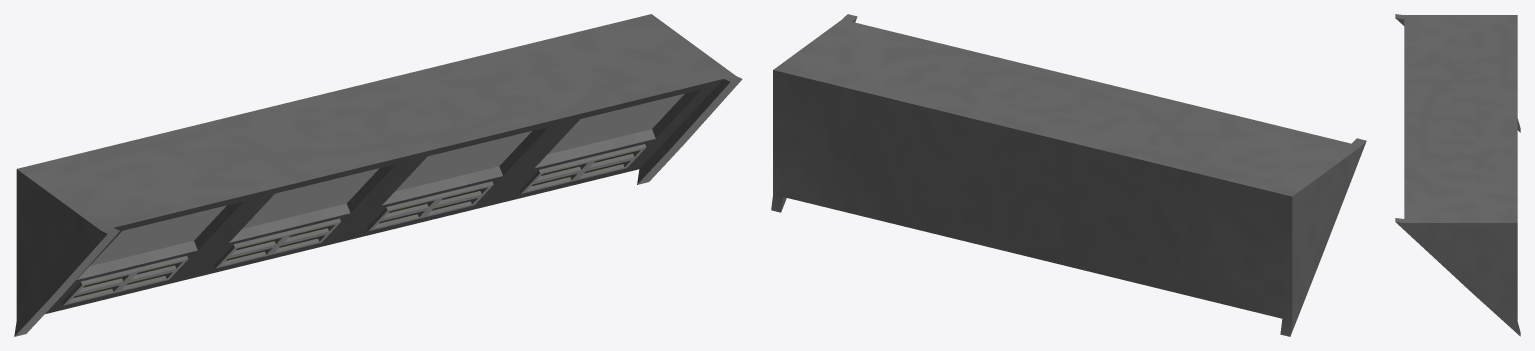
The model's file is Extract.fbx.
3 renders of one model, left to right at view 1: azimuth 30°, elevation 25°; view 2: azimuth 150°, elevation 25°; view 3: azimuth 270°, elevation 25°, orthographic. The views are drawn at different scales.
Visible parts, largest first — view 1: Cube.107; view 2: Cube.107; view 3: Cube.107.
Boxes of the visible parts, x1,y1,x2,y2 form: Cube.107: (14,14,742,336); Cube.107: (771,14,1366,336); Cube.107: (1395,14,1520,336).
Bounding box in the file's own units: 491 × 127 × 125.
